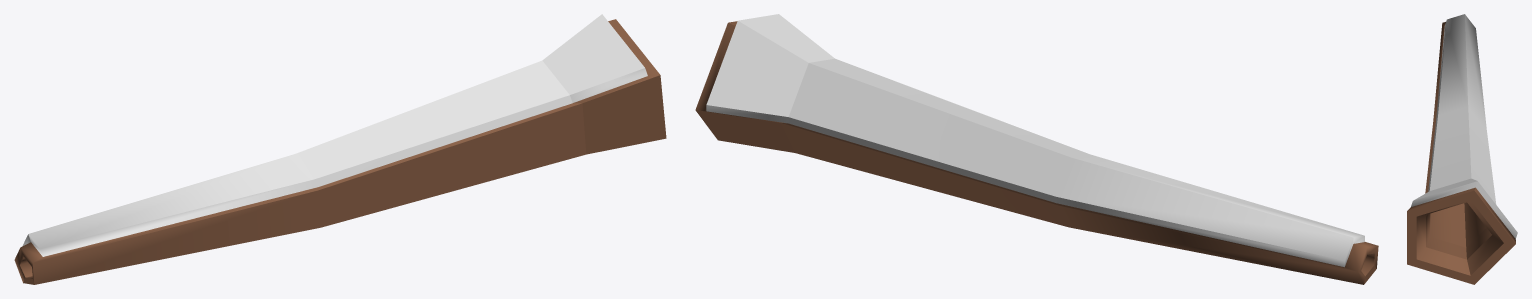
The model's file is tree_bark_fall_2_snow.fbx.
The picture shows the model from 3 angles, left to right: view 1: azimuth 30°, elevation 25°; view 2: azimuth 150°, elevation 25°; view 3: azimuth 270°, elevation 25°; orthographic projection. The views are drawn at different scales.
Parts seen in each view (by area): view 1: tree_pine; view 2: tree_pine; view 3: tree_pine.
Boxes of the visible parts, x1,y1,x2,y2 form: tree_pine: (14,14,666,284); tree_pine: (695,14,1378,284); tree_pine: (1407,14,1517,284).
Size of the model in its own units: 383 by 76.94 by 76.07.
